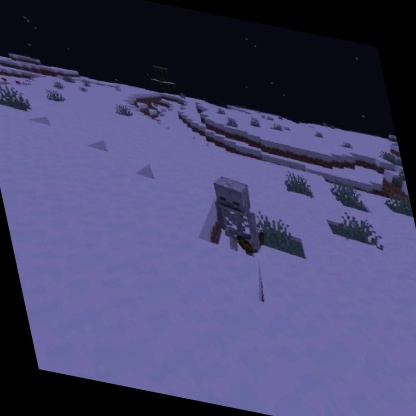skeleton: (205, 171, 273, 260)
